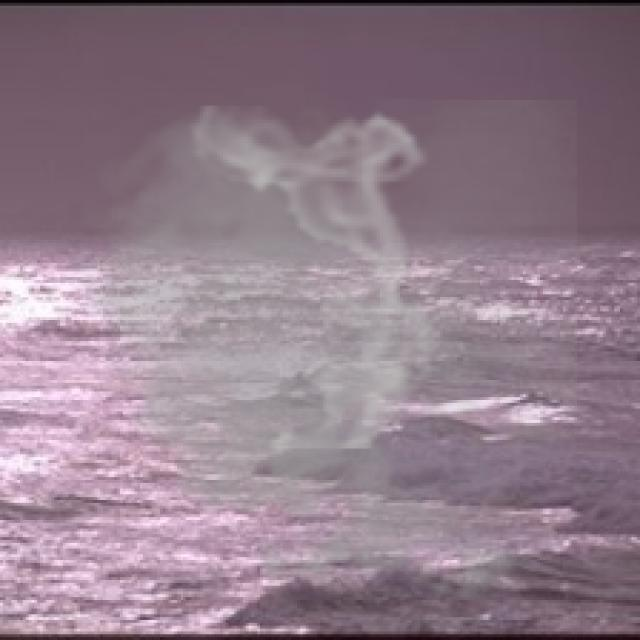Smoke: (57, 100, 577, 617)
